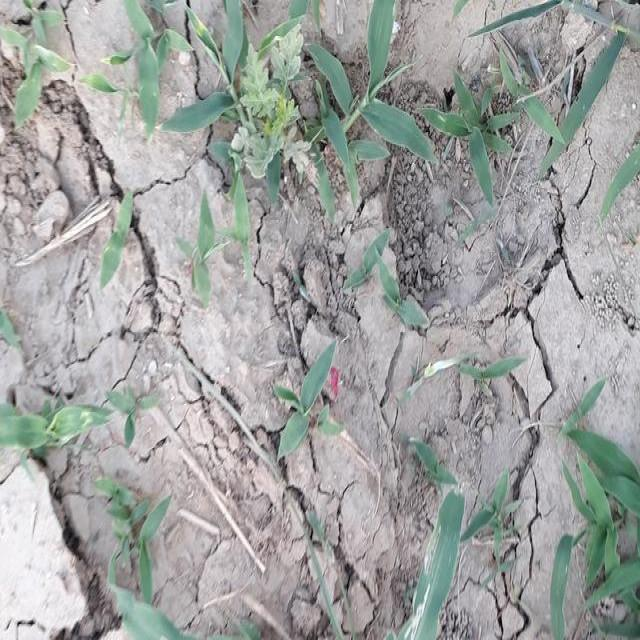weed: (158, 0, 599, 197), (563, 376, 639, 640), (260, 356, 347, 459)
